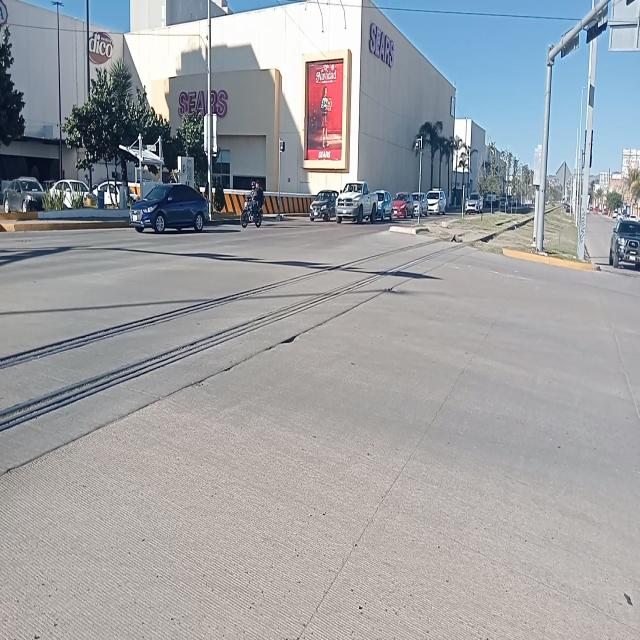Auto: (129, 182, 210, 235)
